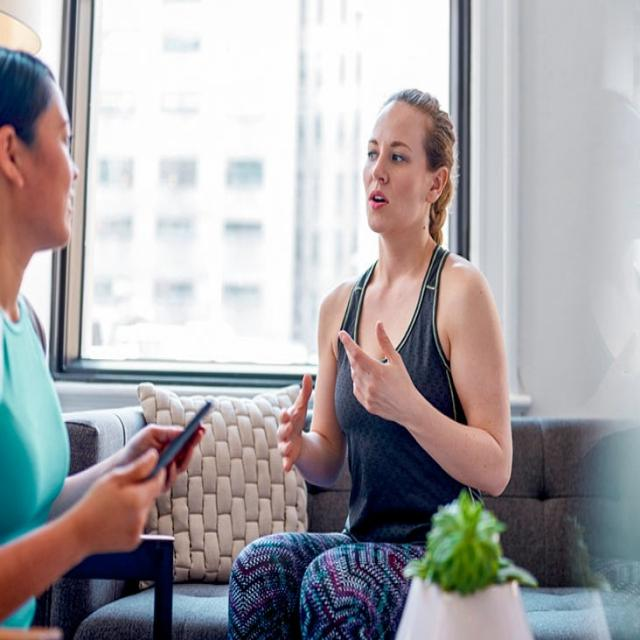adult: (228, 87, 516, 640), (0, 44, 211, 640)
